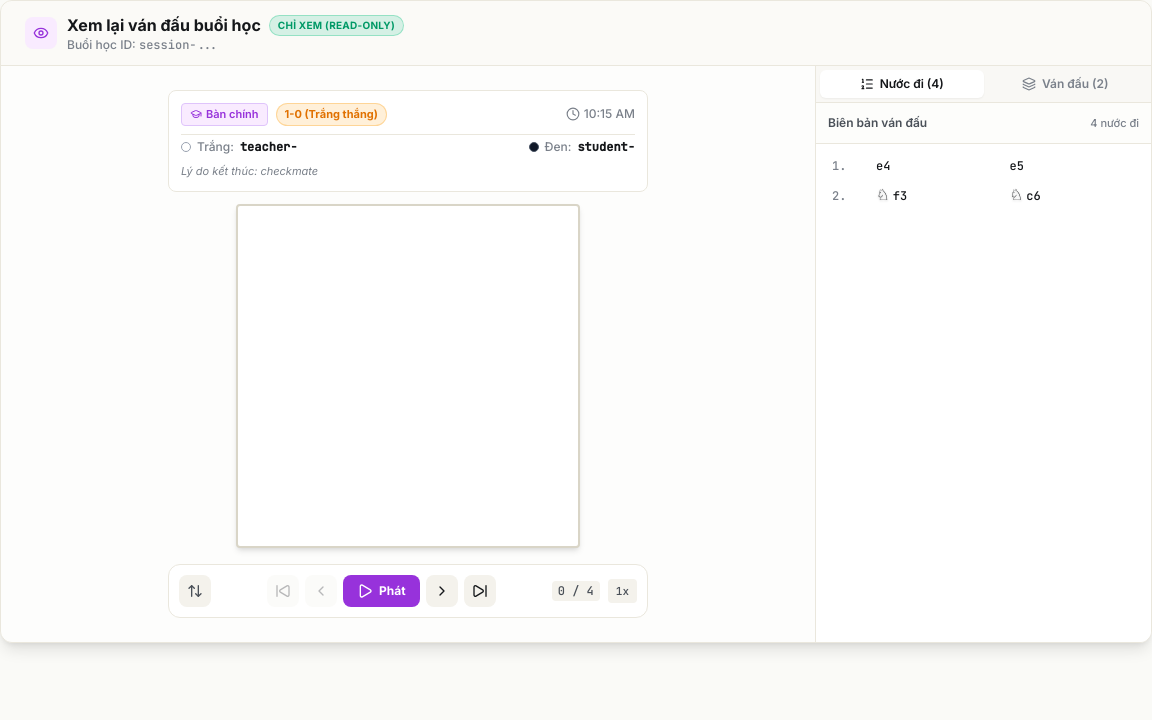
Test case: TASK 9.3 — Session Chess Game Replay UI › 3. Playback behavior, timer management, and stale prevention › cancels playback timer when game selection changes
Start playing Game 1
Click the button with test id "replay-play-pause-btn": (381, 591) [343,575,420,607]
Wait 1000 ms
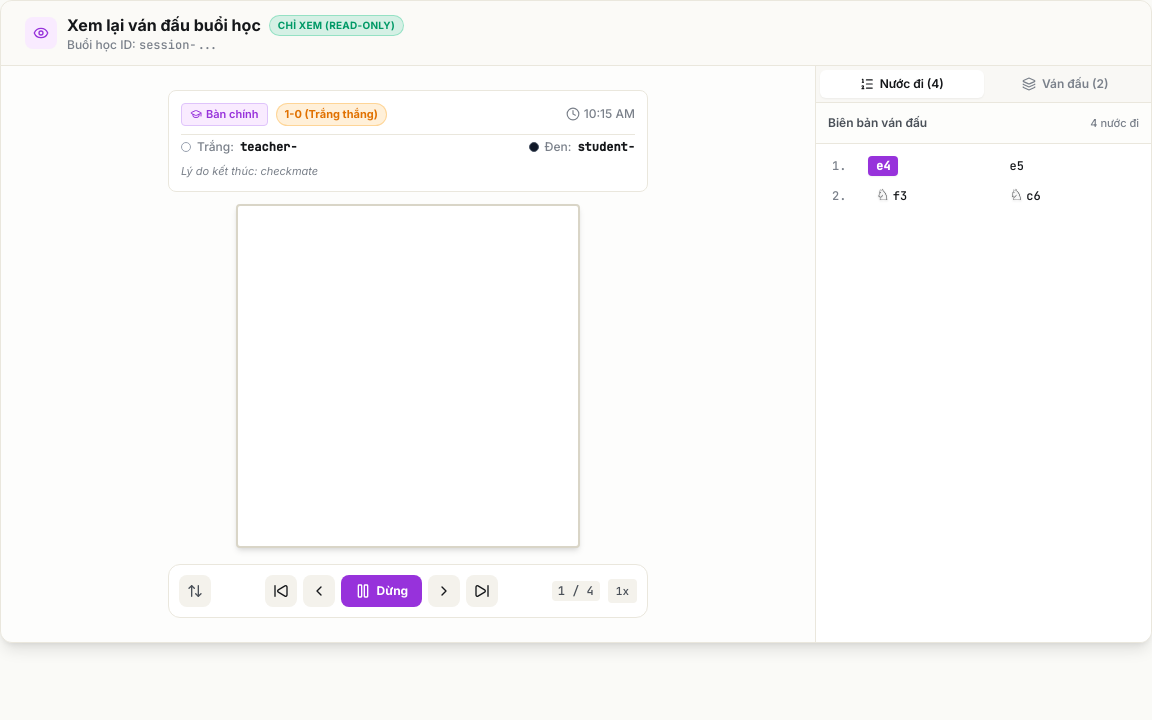
Now the text with test id "replay-step-indicator" reads "1 / 4", box [552,581,600,601]
Switch to games tab and select Game 2
Click the button with test id "replay-tab-games": (1065, 84) [984,70,1147,98]
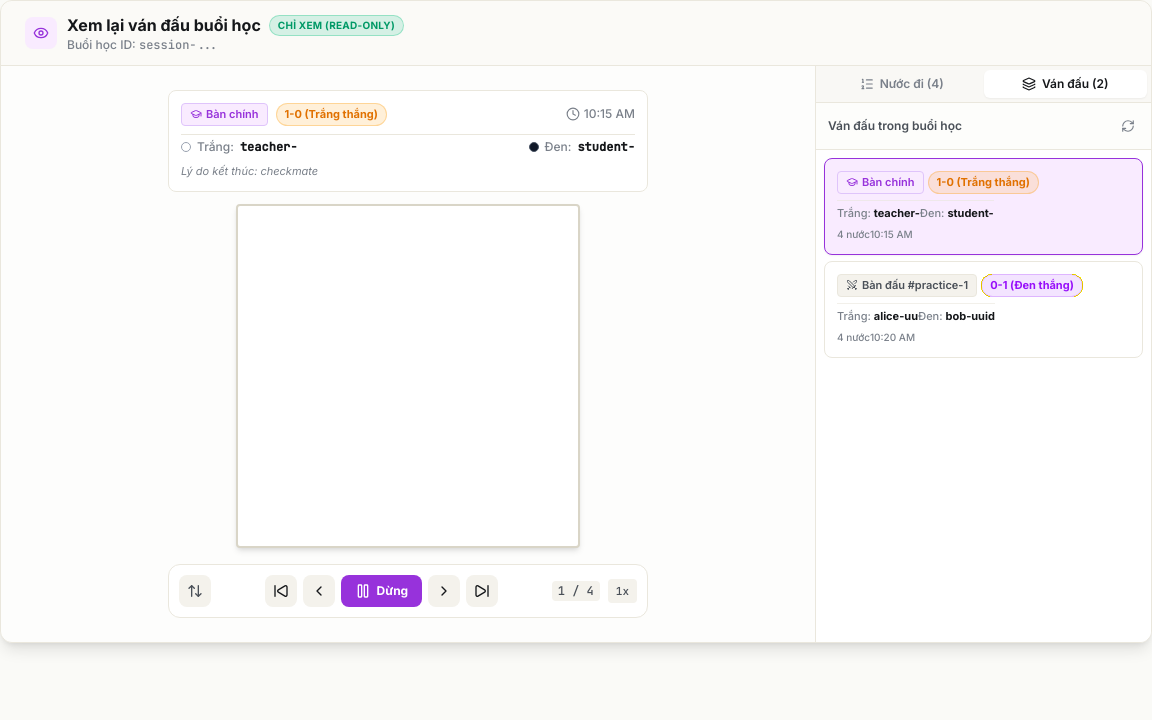
Click the button with test id "replay-game-card-game-2": (984, 310) [824,261,1143,358]
Wait 2000 ms
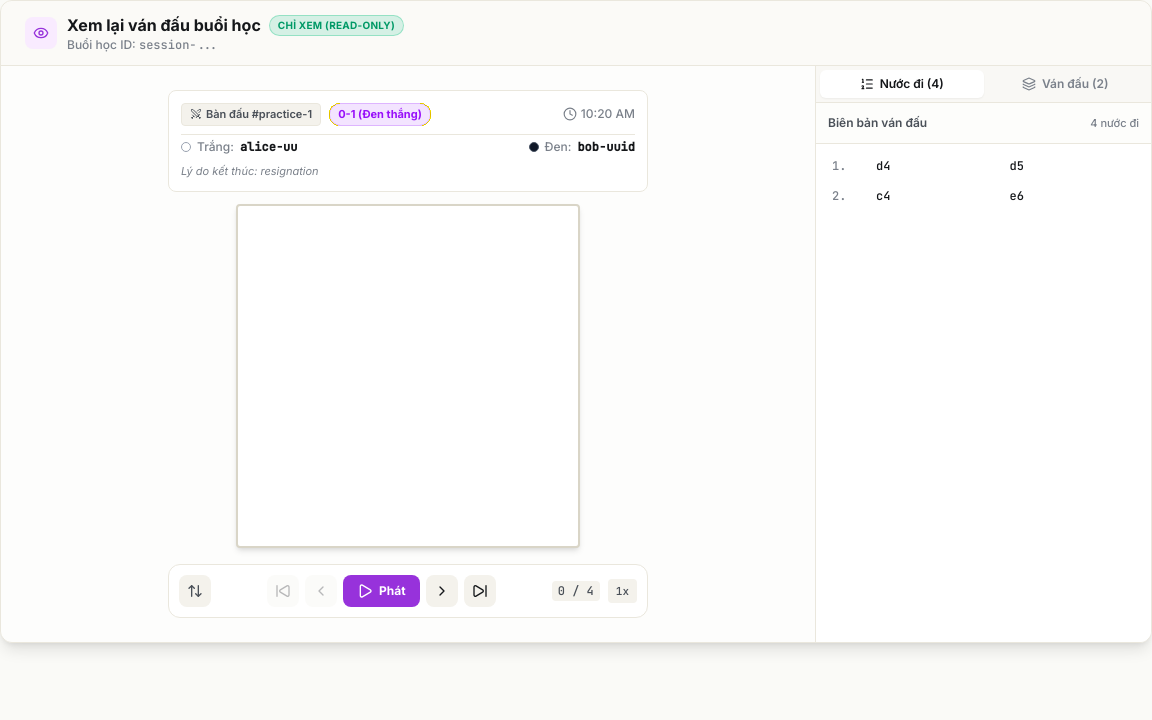
Now the button with test id "replay-play-pause-btn" reads "Phát", box [343,575,420,607]
Now the text with test id "replay-step-indicator" reads "0 / 4", box [552,581,600,601]
